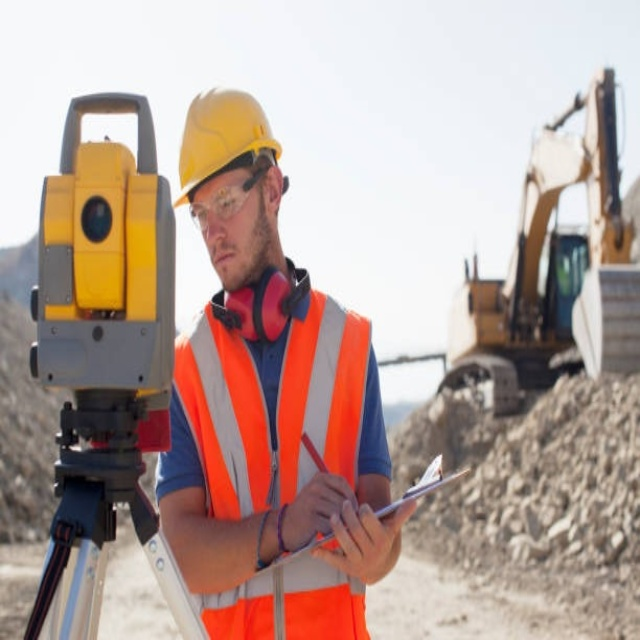Gafas: (188, 173, 264, 234)
Sin_guantes: (317, 491, 420, 586), (288, 460, 357, 551)
Sin_mascara: (206, 243, 247, 287)
